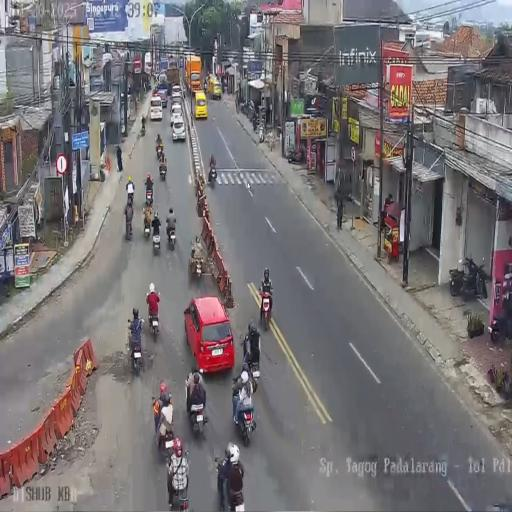car: (183, 295, 234, 373), (194, 91, 208, 119), (171, 118, 186, 141), (208, 75, 222, 99), (150, 95, 162, 120), (171, 84, 182, 104), (171, 102, 182, 122), (158, 70, 167, 84)
motorcycle: (232, 382, 256, 447), (460, 255, 488, 301), (187, 389, 208, 439), (129, 327, 144, 375), (259, 286, 273, 330), (489, 310, 504, 342), (148, 297, 160, 336), (287, 146, 304, 165), (166, 220, 176, 250), (151, 224, 161, 254), (240, 99, 254, 120), (142, 208, 151, 238), (208, 160, 218, 185), (144, 182, 154, 207), (158, 157, 167, 180), (258, 122, 265, 143), (156, 144, 163, 162), (140, 118, 146, 136), (252, 111, 257, 131), (203, 79, 208, 94)
truck: (185, 54, 202, 95), (144, 52, 152, 75)
